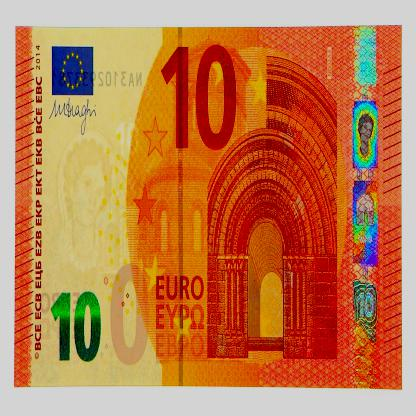euro_banknote: (15, 25, 404, 391)
